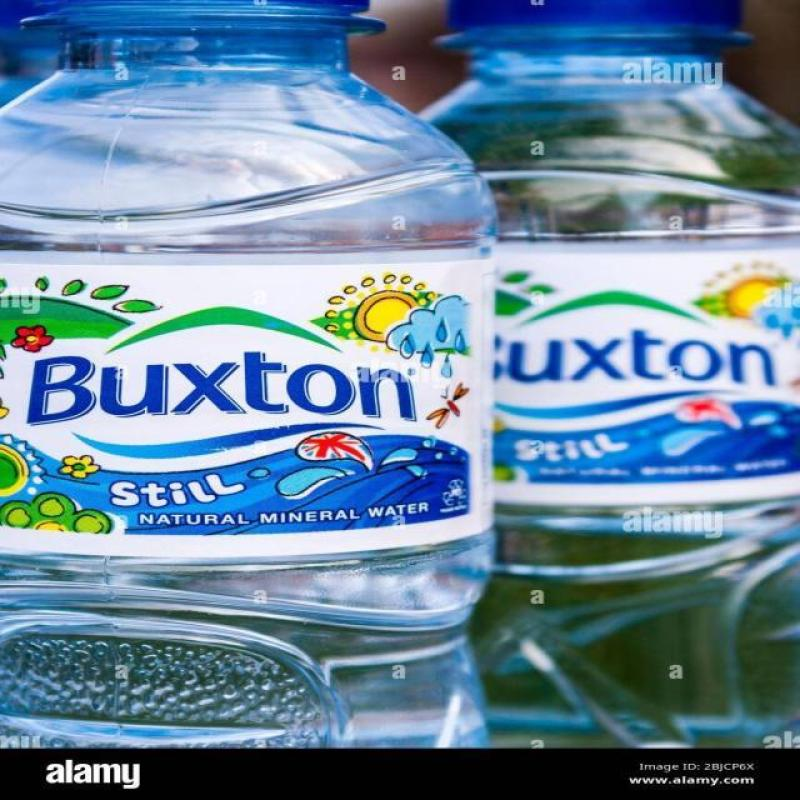botella: (0, 0, 498, 746), (419, 0, 800, 749)
